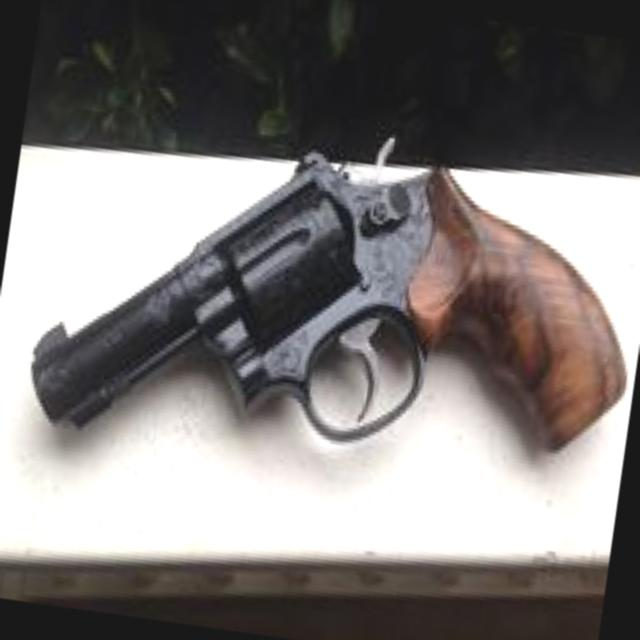revolver: (0, 24, 640, 587)
